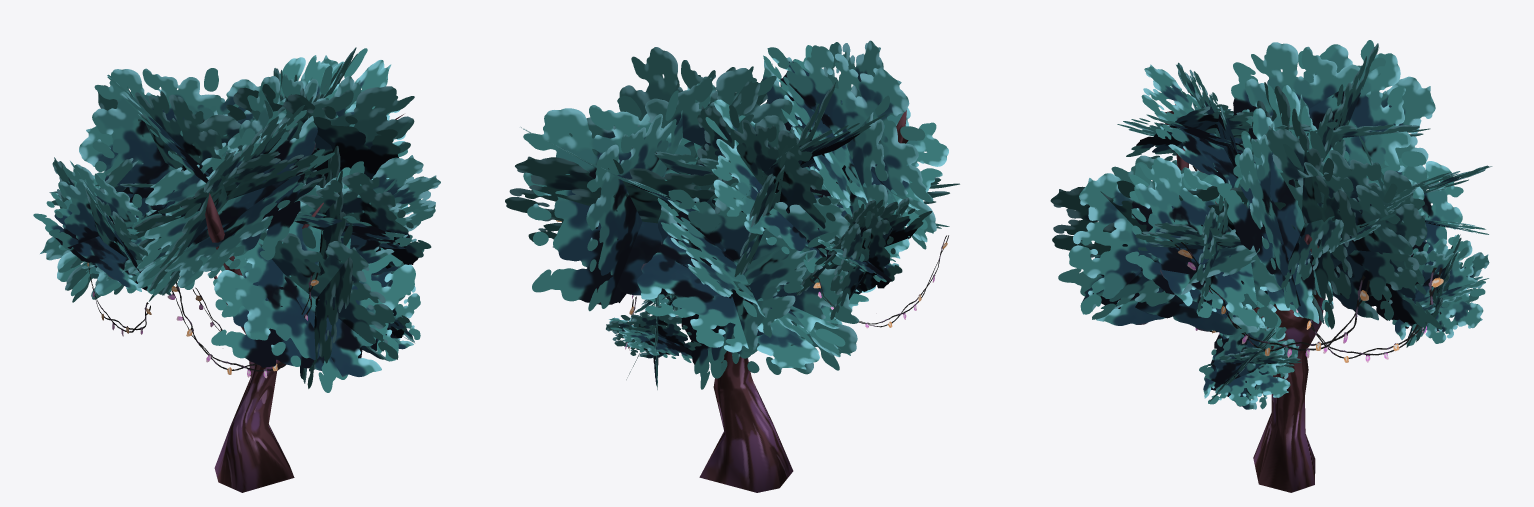
The model's file is tree 2.fbx.
3 views of the same model, side by side, from view 1: azimuth 30°, elevation 25°; view 2: azimuth 150°, elevation 25°; view 3: azimuth 270°, elevation 25° (orthographic). The views are drawn at different scales.
Parts seen in each view (by area): view 1: Cube.001; view 2: Cube.001; view 3: Cube.001.
Boxes of the visible parts, left/top/right/bottom form: Cube.001: left=33, top=47, right=440, bottom=492; Cube.001: left=505, top=40, right=959, bottom=492; Cube.001: left=1050, top=40, right=1492, bottom=492.
Size of the model in its own units: 558 by 575 by 616.
